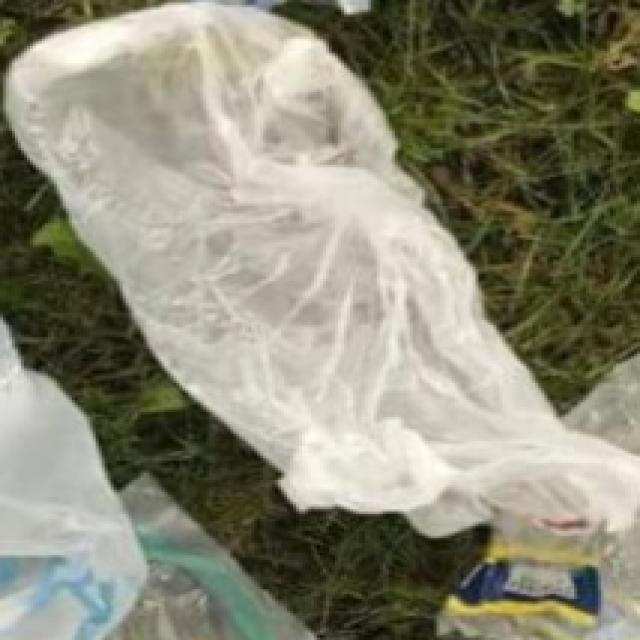plastic bag: (54, 0, 640, 543)
